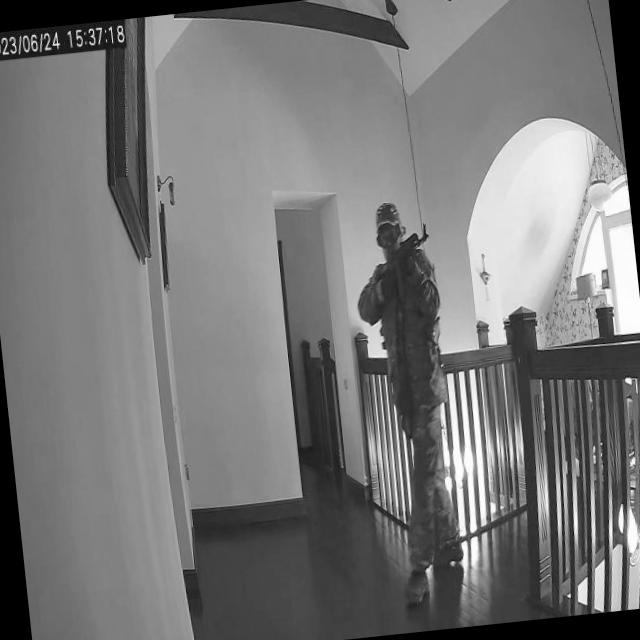gun: (374, 223, 434, 284)
person with a gun: (344, 196, 466, 602)
